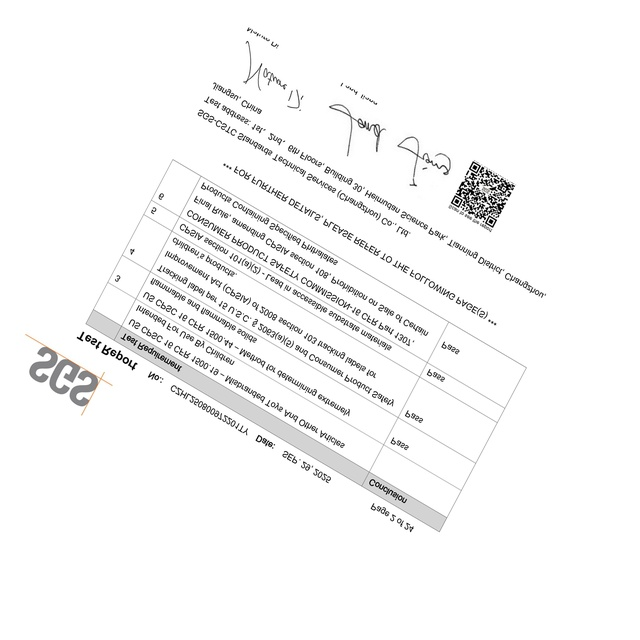sgs: (30, 345, 99, 408)
